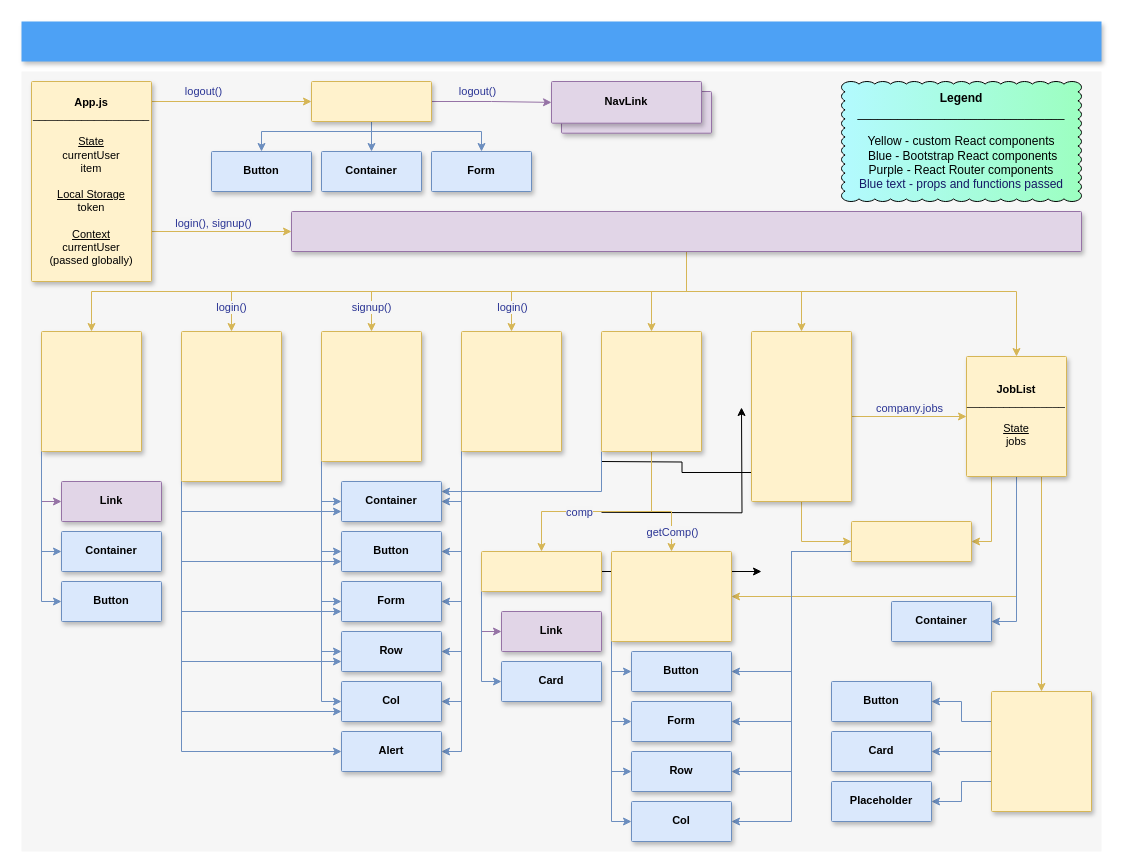
This 1124x868 diagram has some shape labels left out. The centre of each missing label's shape, as x and y in pixels:
"CompanyCard" goes at point 542,572.
"CompanyDetail ________________ Params handle History history State company" goes at point 802,417.
"CompanyList ________________ State companies" goes at point 652,392.
"Home" goes at point 92,392.
"JobCard ________________ State applied, dataLoaded" goes at point 1042,752.
"Jobly - React Component Diagram" goes at point 562,42.
"LoadingBar" goes at point 912,542.
"NavigationBar" goes at point 372,102.
"Routes" goes at point 687,232.
"Search ___________________ State keyword" goes at point 672,597.
"UserLogin ________________ History history State formData formErrors" goes at point 232,407.
"UserProfile ________________ State alertMsg formData" goes at point 512,392.
"UserRegister ________________ History history State formData" goes at point 372,397.
